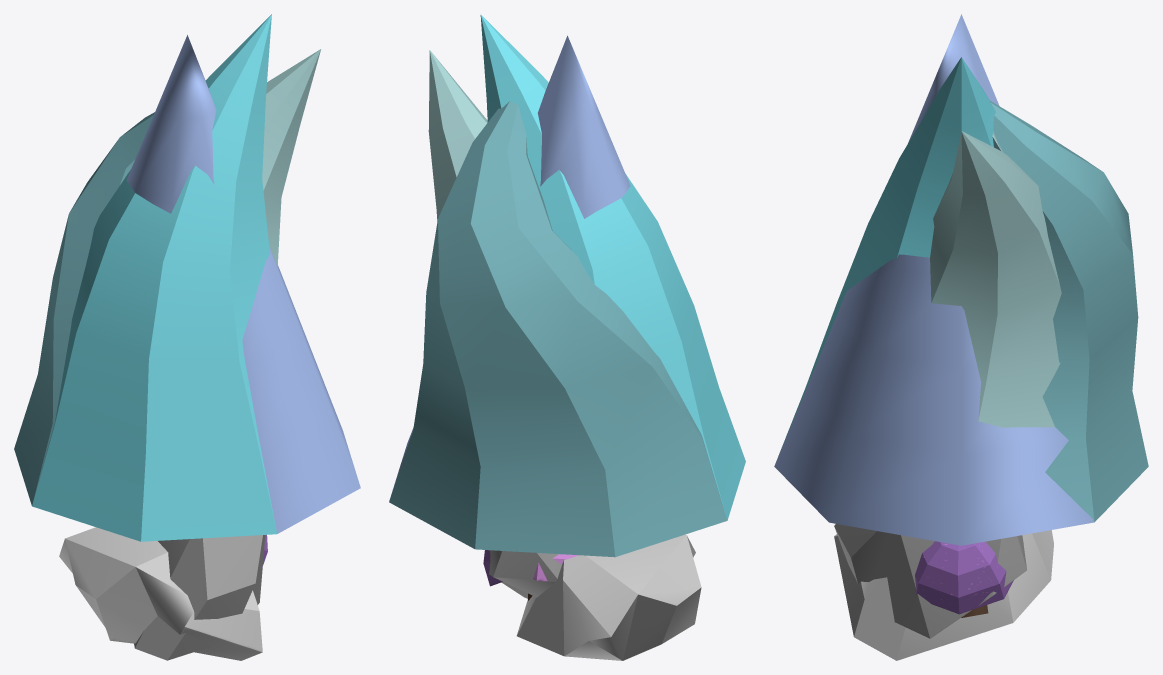
File: Assets.fbx
3 renders of one model, left to right at view 1: azimuth 30°, elevation 25°; view 2: azimuth 150°, elevation 25°; view 3: azimuth 270°, elevation 25°, orthographic. The views are drawn at different scales.
Parts seen in each view (by area): view 1: TreeB1_pCone1, TreeS_pCone1, Rock2_pCube1, pCone1, pCube1, TreeB2_pCone1; view 2: pCone1, TreeB1_pCone1, Rock2_pCube1, TreeS_pCone1, TreeB2_pCone1, pCube1; view 3: TreeS_pCone1, pCone1, TreeB2_pCone1, TreeB1_pCone1, Rock2_pCube1, pCube1, pSphere2.
Part boxes in pixels (bbox=[...]): TreeB1_pCone1: bbox=[32, 14, 276, 541]; TreeS_pCone1: bbox=[126, 35, 360, 533]; Rock2_pCube1: bbox=[59, 527, 262, 660]; pCone1: bbox=[14, 112, 154, 505]; pCube1: bbox=[134, 535, 265, 660]; TreeB2_pCone1: bbox=[262, 49, 320, 266]; pCone1: bbox=[389, 101, 727, 600]; TreeB1_pCone1: bbox=[480, 14, 745, 520]; Rock2_pCube1: bbox=[516, 534, 701, 660]; TreeS_pCone1: bbox=[389, 35, 630, 600]; TreeB2_pCone1: bbox=[428, 50, 487, 220]; pCube1: bbox=[489, 550, 561, 598]; TreeS_pCone1: bbox=[774, 14, 1093, 617]; pCone1: bbox=[990, 101, 1148, 522]; TreeB2_pCone1: bbox=[930, 131, 1061, 427]; TreeB1_pCone1: bbox=[778, 57, 995, 456]; Rock2_pCube1: bbox=[834, 530, 1053, 660]; pCube1: bbox=[834, 524, 1026, 638]; pSphere2: bbox=[915, 541, 1013, 614].
Bounding box in the file's own units: 6 × 11.23 × 6.
1 material, 1 textured.
